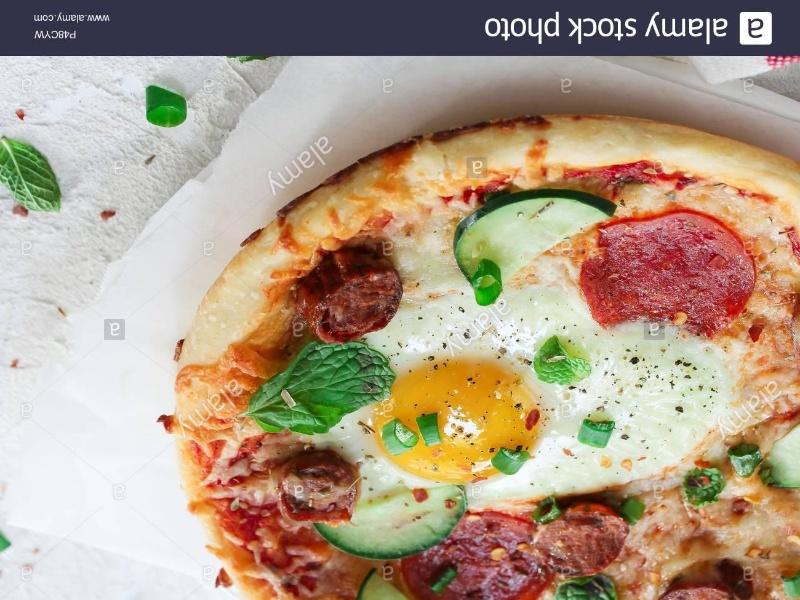oeuf: (374, 348, 571, 490)
